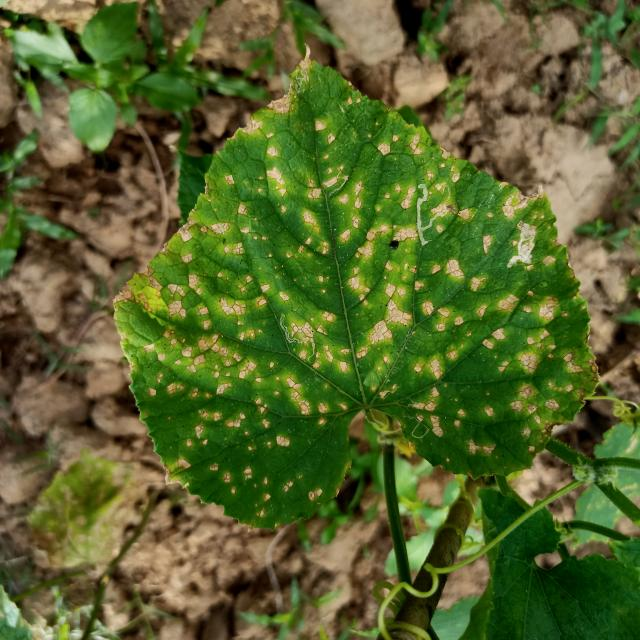disease_cucumber: (124, 93, 578, 504)
